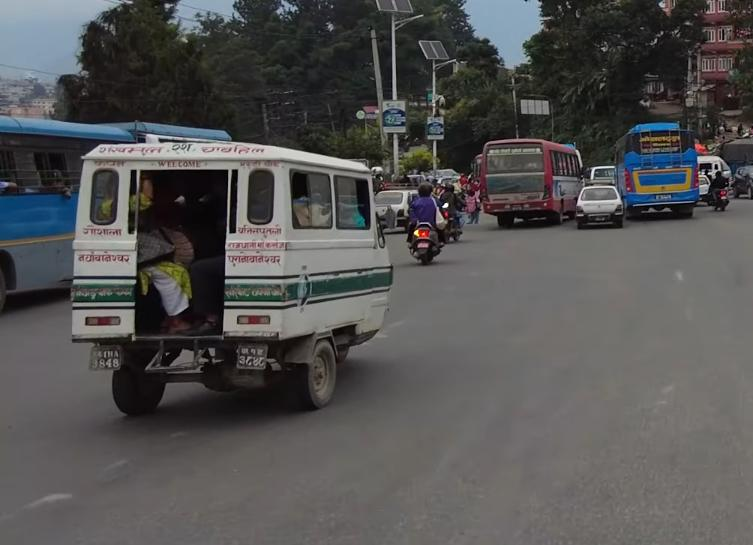bus: (478, 134, 585, 229), (610, 118, 698, 225)
taxi: (574, 183, 624, 230)
tempo: (62, 131, 403, 418)
